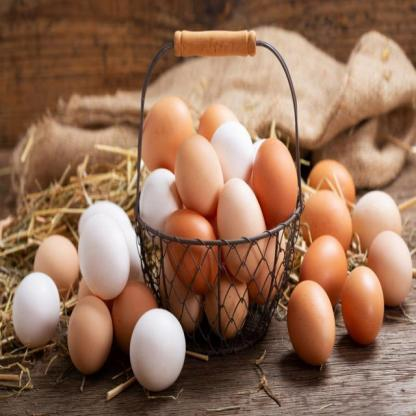egg: (211, 166, 275, 282), (248, 119, 310, 234), (283, 278, 347, 375), (132, 93, 198, 180), (78, 189, 142, 277), (127, 305, 194, 389), (66, 282, 116, 394), (8, 264, 62, 361), (72, 216, 134, 300), (108, 274, 166, 354), (174, 126, 224, 217), (366, 224, 414, 315), (134, 158, 184, 238), (28, 220, 80, 296), (350, 181, 404, 253), (298, 236, 353, 302), (210, 117, 260, 186), (298, 191, 353, 246), (303, 152, 366, 198), (199, 92, 240, 136)
